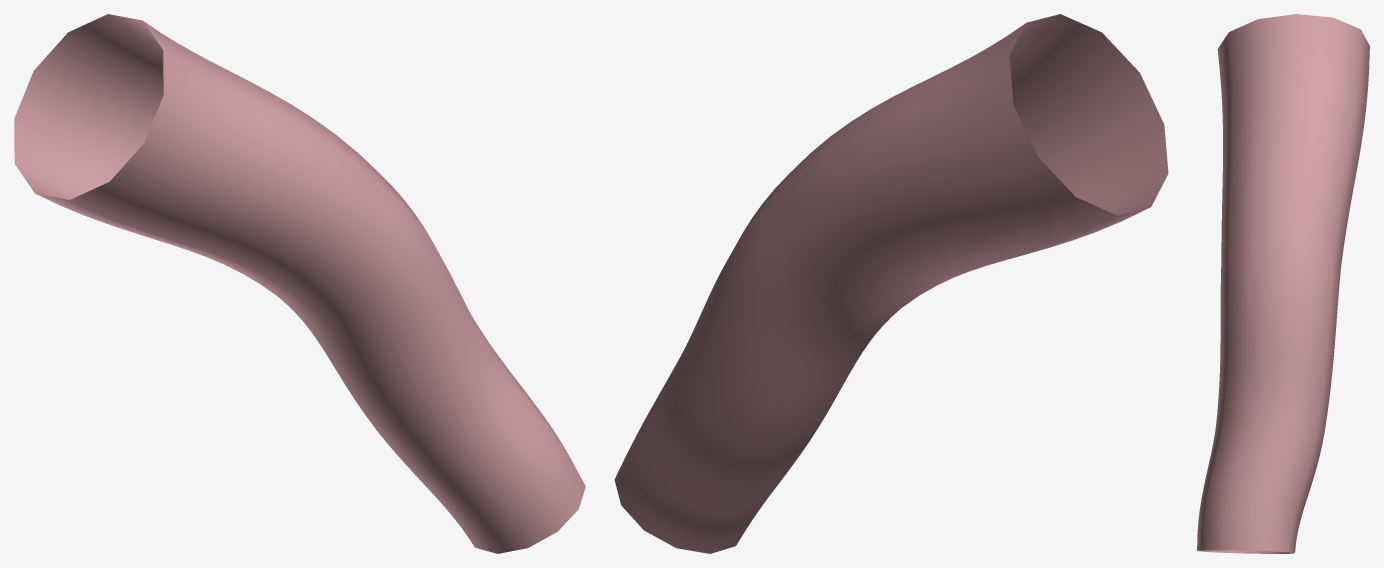
3 views of the same model, side by side, from view 1: azimuth 30°, elevation 25°; view 2: azimuth 150°, elevation 25°; view 3: azimuth 270°, elevation 25° (orthographic). The views are drawn at different scales.
Visible parts, largest first — view 1: ZA_8ce0119c01ac82a9; view 2: ZA_8ce0119c01ac82a9; view 3: ZA_8ce0119c01ac82a9.
Part boxes in pixels (x1,y1,x2,y2): ZA_8ce0119c01ac82a9: (14,14,585,553); ZA_8ce0119c01ac82a9: (614,14,1168,553); ZA_8ce0119c01ac82a9: (1197,14,1369,553).
Bounding box in the file's own units: 0.0405 × 0.0436 × 0.0159.
